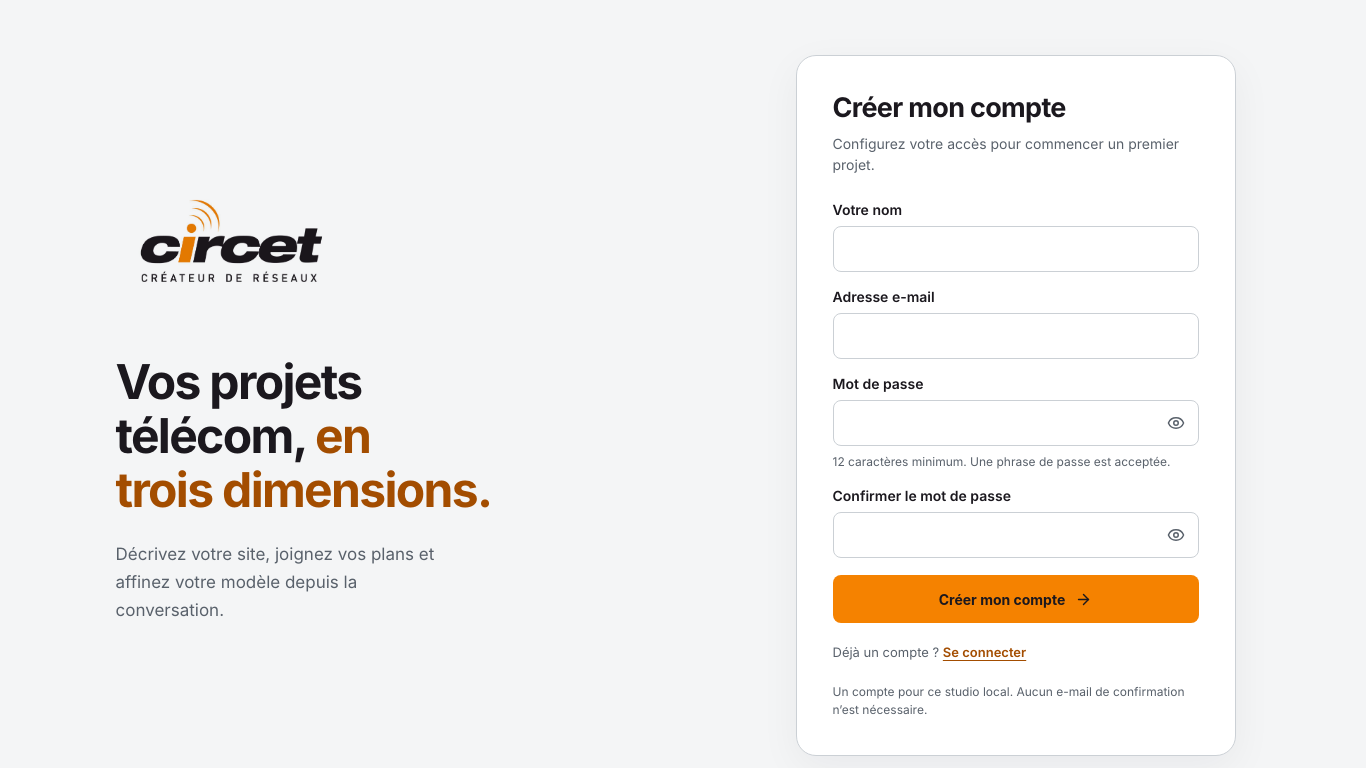
Test: AuthGate › creates the first local owner from a user-chosen password
expect the heading "Créer mon compte" is shown: met, box left=832, top=91, right=1066, bottom=124
expect the text "Studio privé" is not shown: met
Type "Alice Martin" into the field labelled "Votre nom".
click(1016, 249); type("Alice Martin")  # box left=832, top=226, right=1198, bottom=272
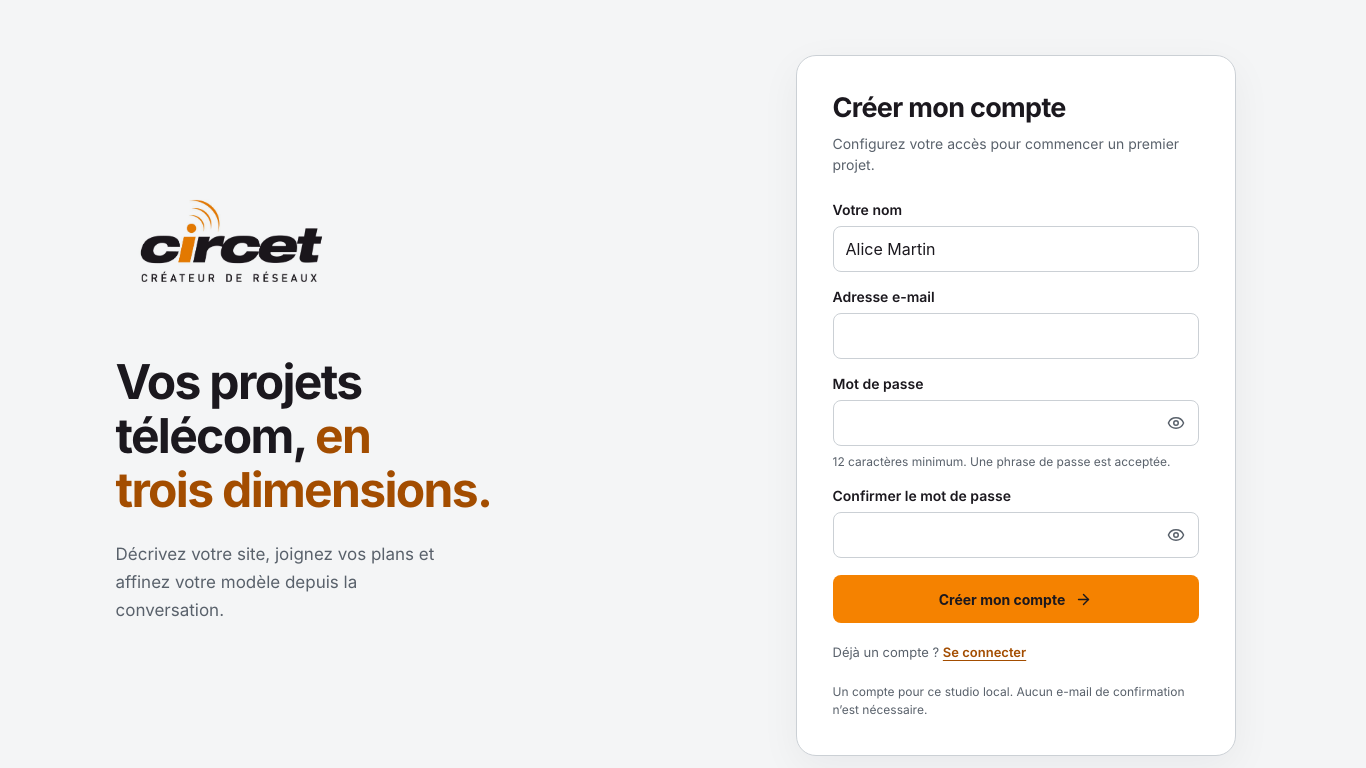
Type "alice@circet.example" into the field labelled "Adresse e-mail".
click(1016, 336); type("alice@circet.example")  # box left=832, top=313, right=1198, bottom=359
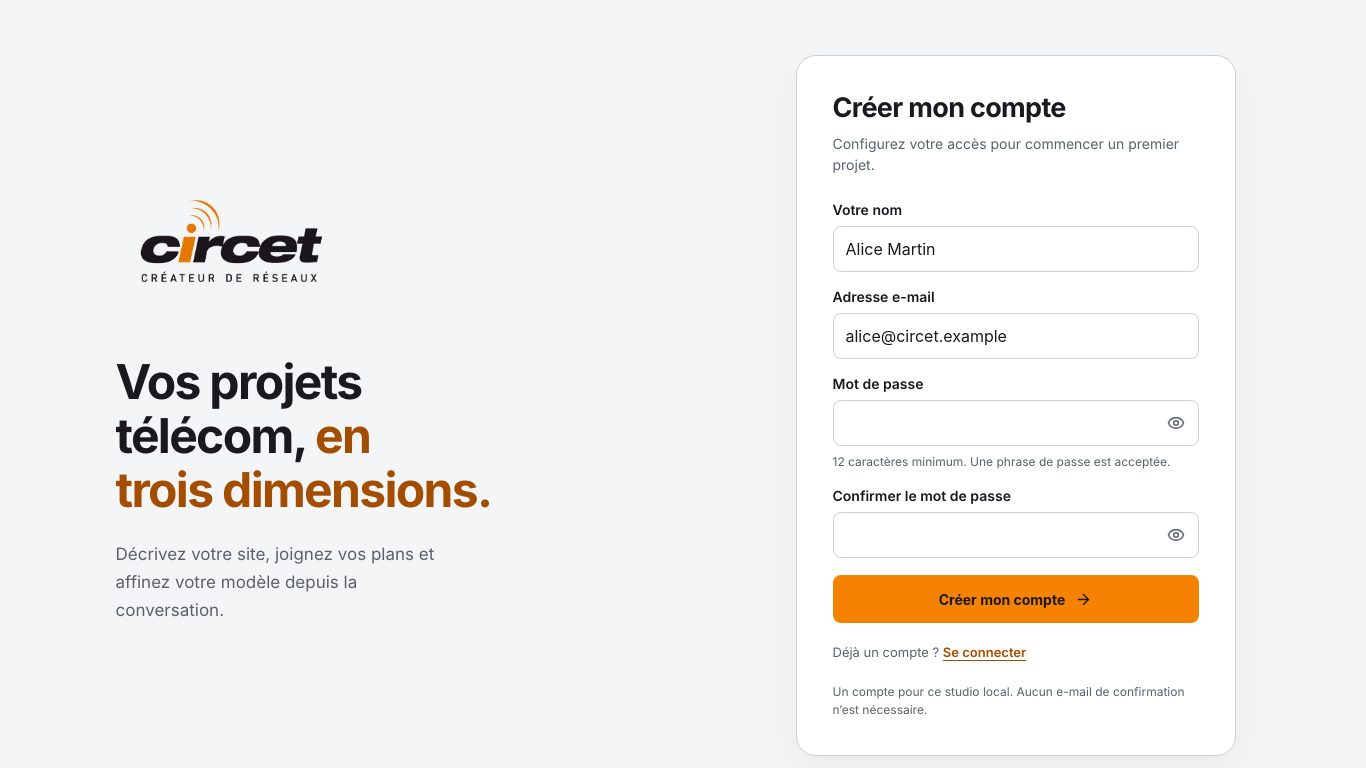
Type "correct horse battery staple" into the password field labelled "Mot de passe".
click(1016, 423); type("correct horse battery staple")  # box left=832, top=400, right=1198, bottom=446
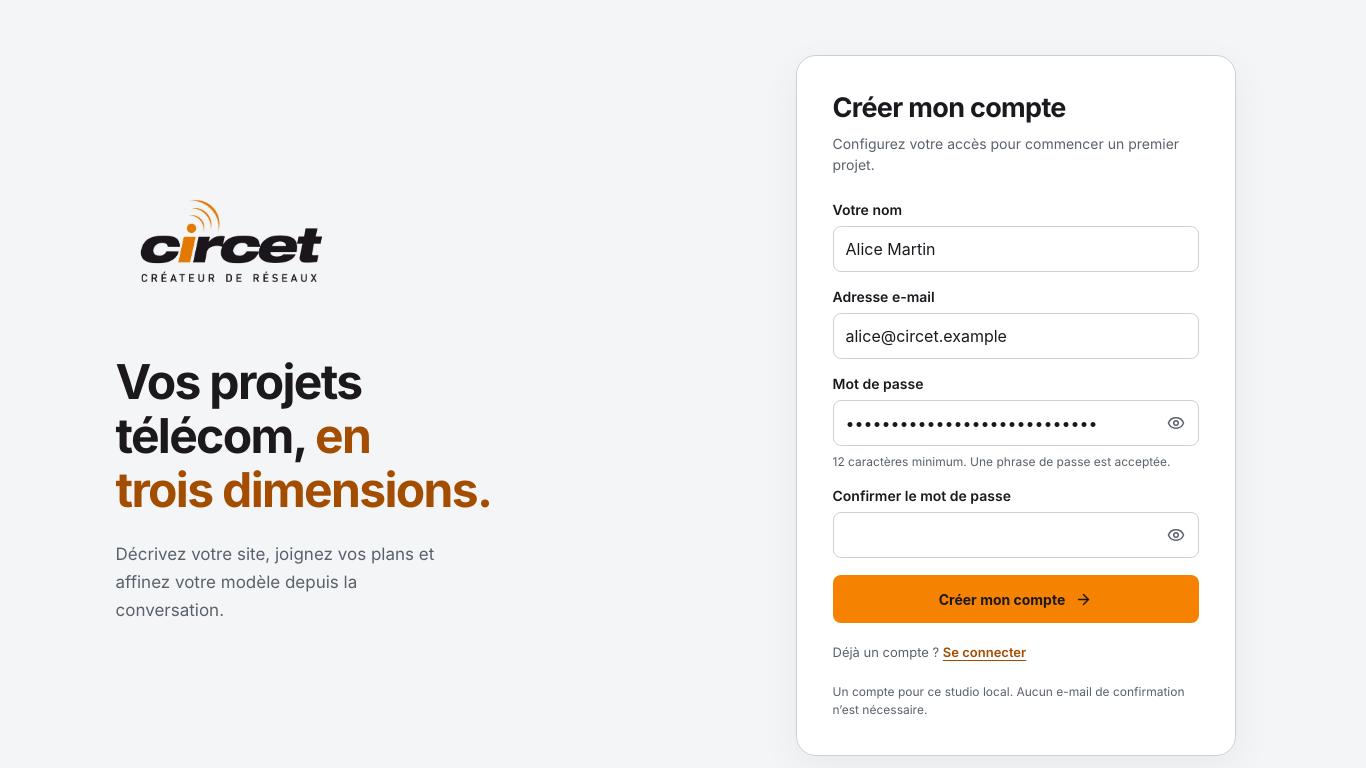
Type "correct horse battery staple" into the password field labelled "Confirmer le mot de passe".
click(1016, 535); type("correct horse battery staple")  # box left=832, top=512, right=1198, bottom=558
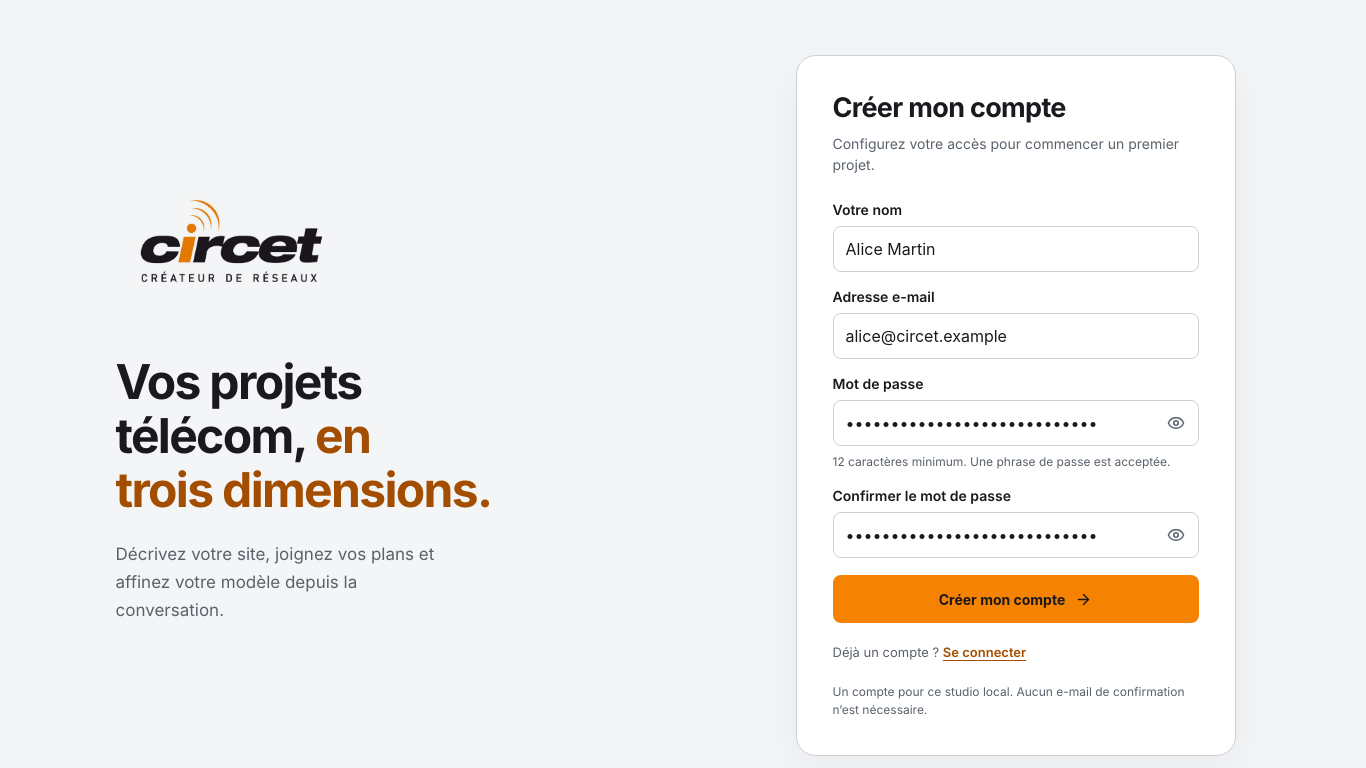
Click the button "Créer mon compte".
click(1016, 599)  # box left=832, top=575, right=1198, bottom=623
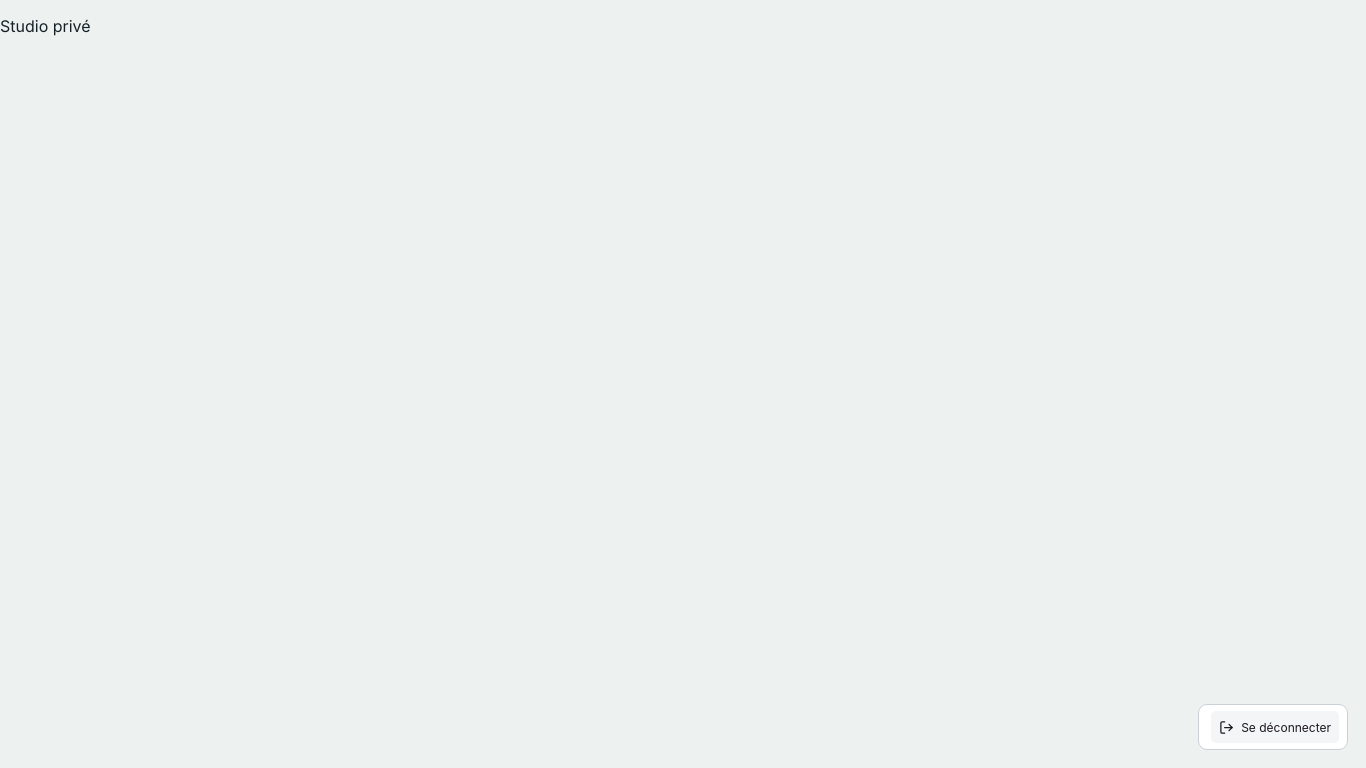
expect the text "Studio privé" is shown: met, box left=0, top=16, right=91, bottom=36
